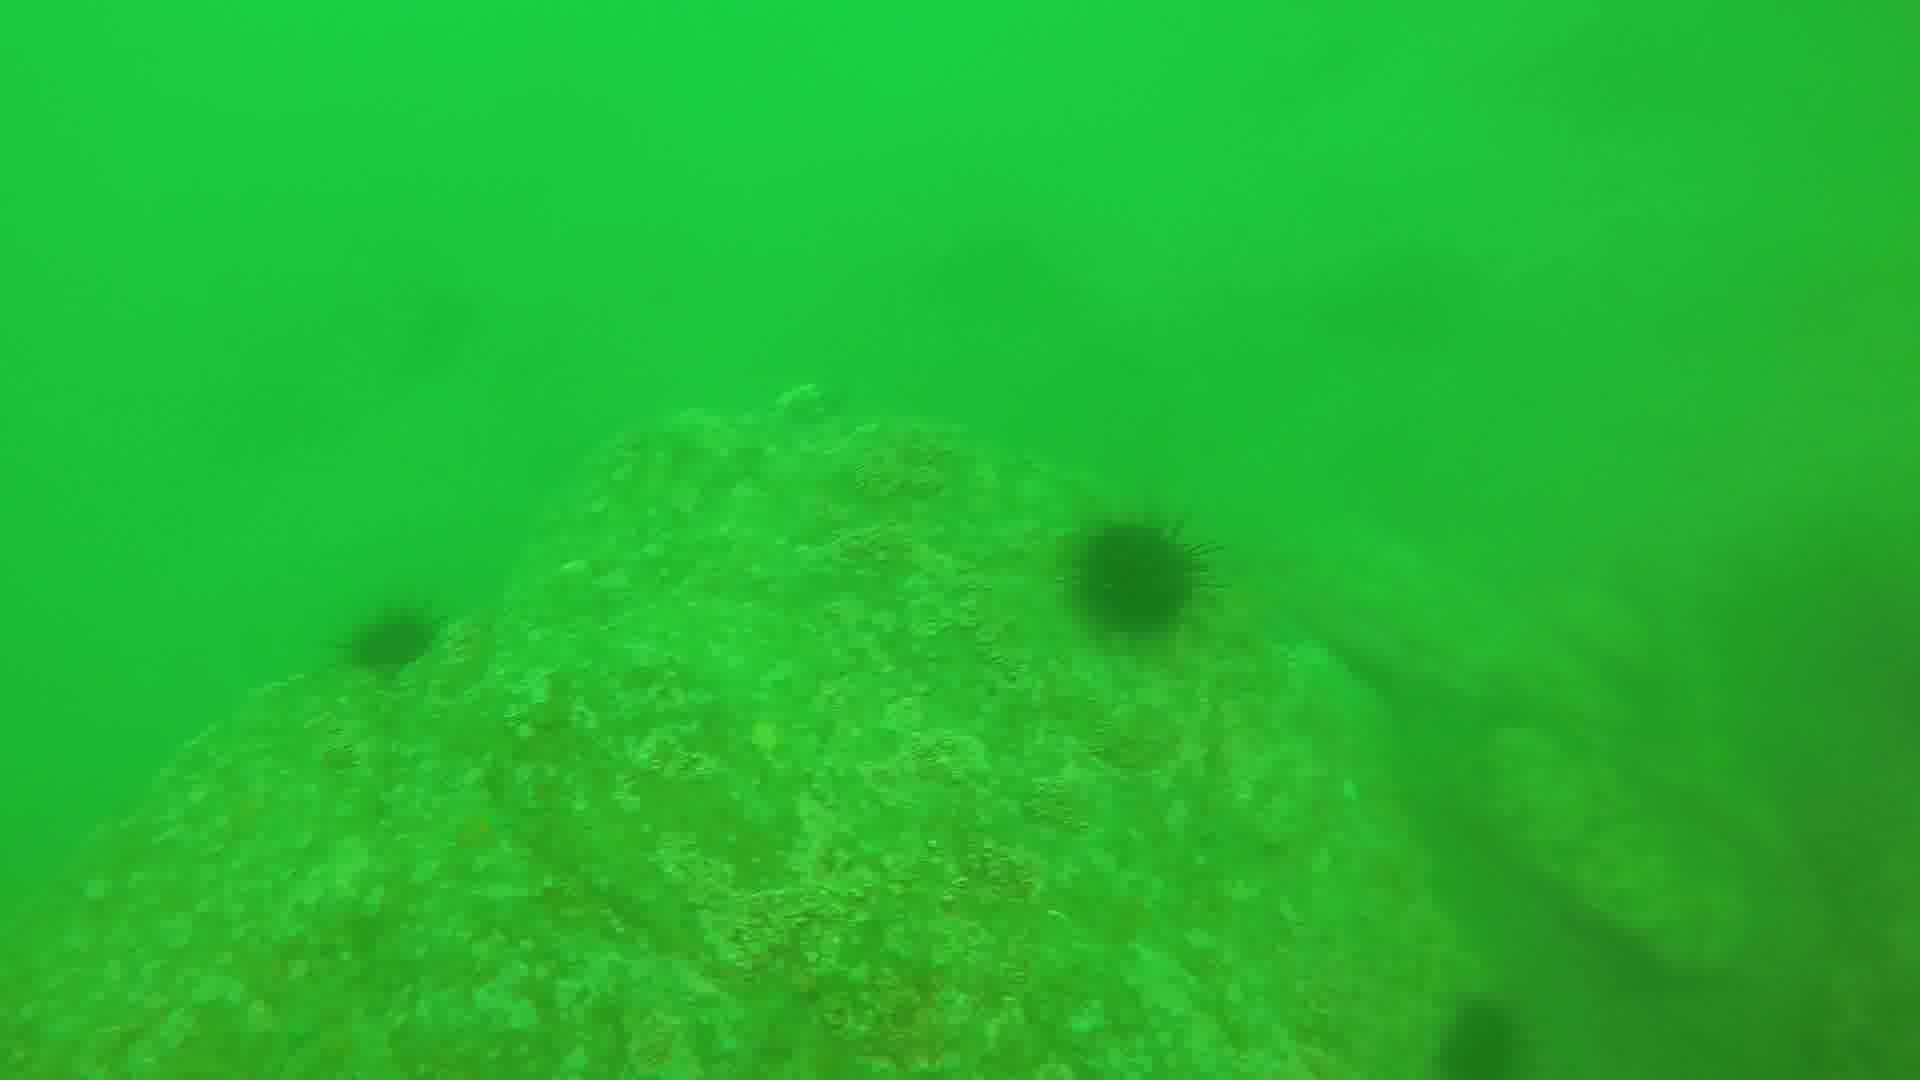echinus: (1073, 513, 1208, 640), (345, 592, 448, 688), (1429, 989, 1531, 1080)
